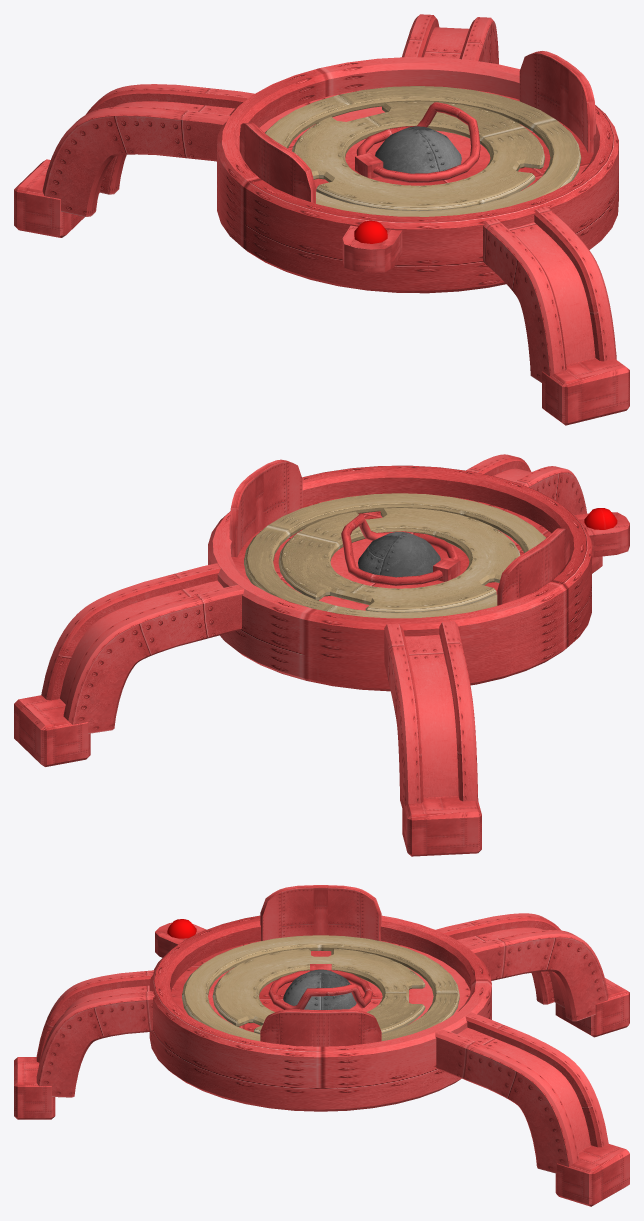
Rendered from static.glb.
3 views of the same model, one above another, from view 1: azimuth 30°, elevation 25°; view 2: azimuth 150°, elevation 25°; view 3: azimuth 270°, elevation 25° (orthographic). The views are drawn at different scales.
Parts seen in each view (by area): view 1: Tube, Boole_2, Sweep_2, Sweep_3, Sweep_6, Cube_5, Cube_3, Sweep_1_3, Cylinder_2, Sphere, Cube_2, Sweep_5 (+5 smaller); view 2: Tube, Sweep, Boole_2, Sweep_6, Sweep_2, Cube_5, Sweep_1_2, Cube_2, Cube, Cylinder_2, Sphere, Sweep_3 (+4 smaller); view 3: Tube, Sweep, Cube_5, Sweep_2, Boole_2, Sweep_3, Sweep_6, Cube, Cylinder_2, Sweep_1, Cube_3, Cube_2 (+6 smaller).
Boxes of the visible parts, <box> form: Tube: <box>217,57,618,293</box>; Boole_2: <box>292,101,544,210</box>; Sweep_2: <box>42,84,254,216</box>; Sweep_3: <box>483,206,616,382</box>; Sweep_6: <box>265,86,581,216</box>; Cube_5: <box>239,51,595,203</box>; Cube_3: <box>542,358,629,425</box>; Sweep_1_3: <box>508,222,595,364</box>; Cylinder_2: <box>259,87,593,191</box>; Sphere: <box>375,126,461,173</box>; Cube_2: <box>14,159,84,237</box>; Sweep_5: <box>356,102,480,182</box>; Tube: <box>208,465,591,691</box>; Sweep: <box>41,563,244,733</box>; Boole_2: <box>278,508,520,612</box>; Sweep_6: <box>244,493,545,618</box>; Sweep_2: <box>384,621,478,807</box>; Cube_5: <box>229,459,570,605</box>; Sweep_1_2: <box>405,634,458,797</box>; Cube_2: <box>402,796,481,856</box>; Cube: <box>14,695,90,766</box>; Cylinder_2: <box>231,493,551,610</box>; Sphere: <box>358,532,440,577</box>; Sweep_3: <box>466,454,586,514</box>; Tube: <box>149,915,491,1111</box>; Sweep: <box>435,1012,608,1173</box>; Cube_5: <box>260,885,381,1046</box>; Sweep_2: <box>435,913,608,1021</box>; Boole_2: <box>212,948,425,1033</box>; Sweep_3: <box>36,970,154,1097</box>; Sweep_6: <box>182,935,459,1041</box>; Cube: <box>555,1143,629,1206</box>; Cylinder_2: <box>171,941,470,1032</box>; Sweep_1: <box>457,1027,590,1152</box>; Cube_3: <box>14,1057,55,1119</box>; Cube_2: <box>555,978,629,1037</box>.
Bounding box in the file's own units: 1.67 × 0.6084 × 2.15.
Materials: 4 (4 with a texture image).
